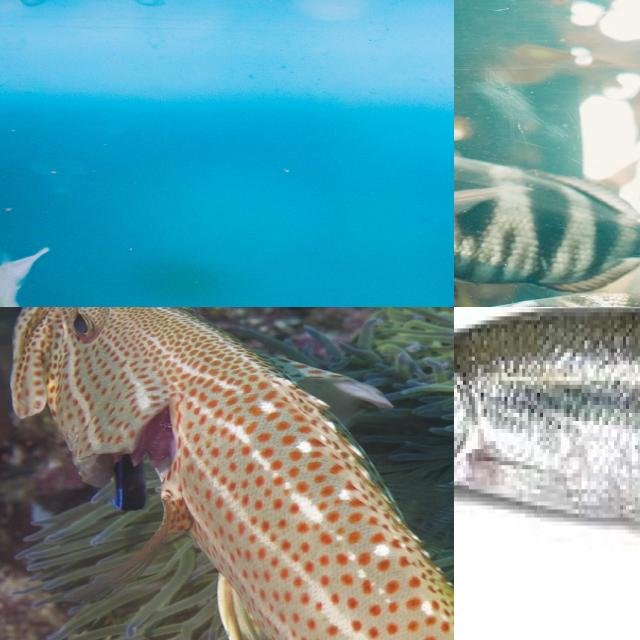fish: (7, 307, 454, 640), (0, 0, 454, 307), (454, 307, 640, 640), (454, 218, 640, 307)
